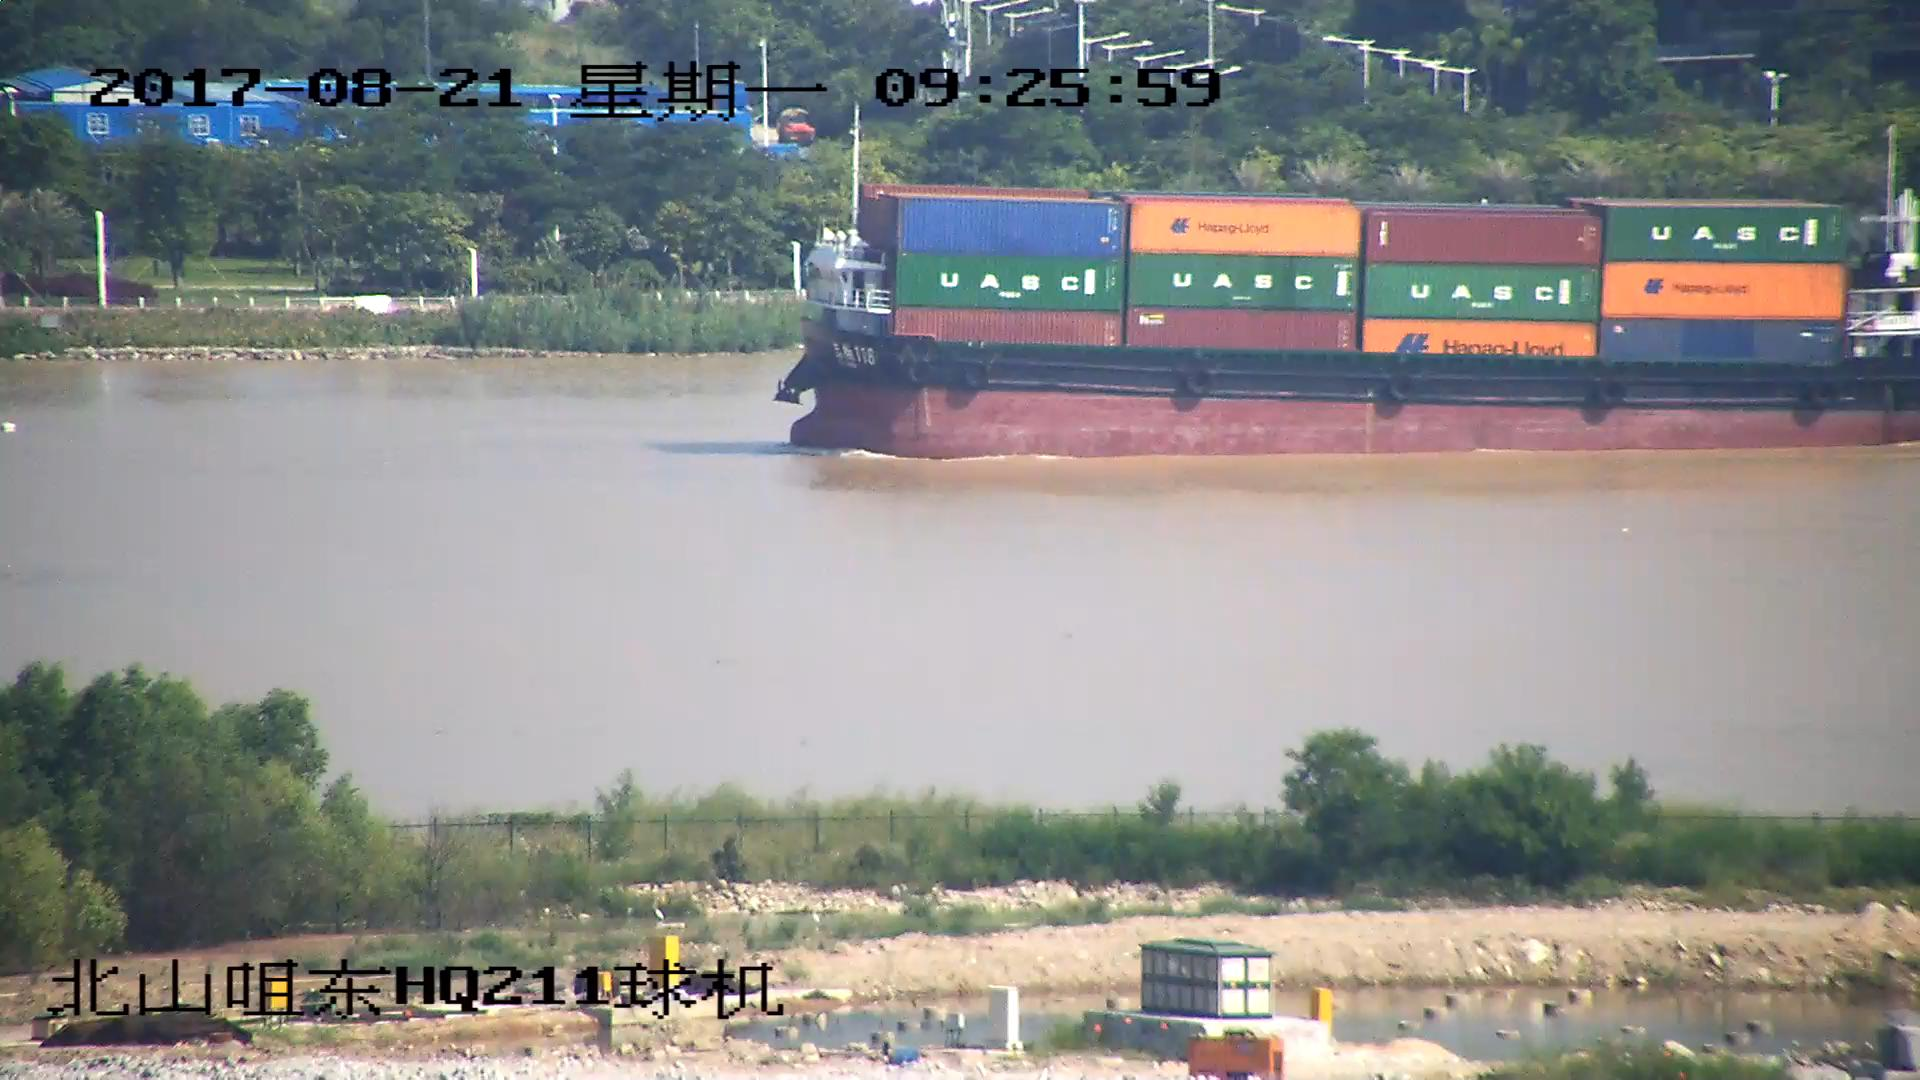container ship: (780, 119, 1920, 460)
